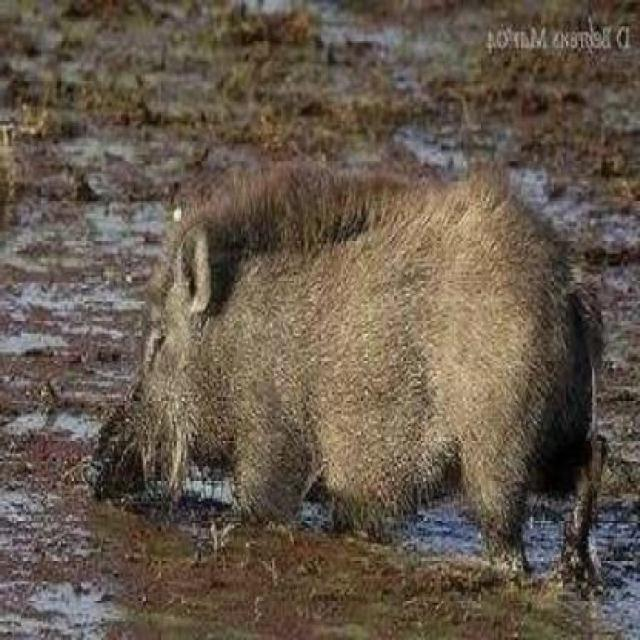Boar: (63, 111, 594, 617)
